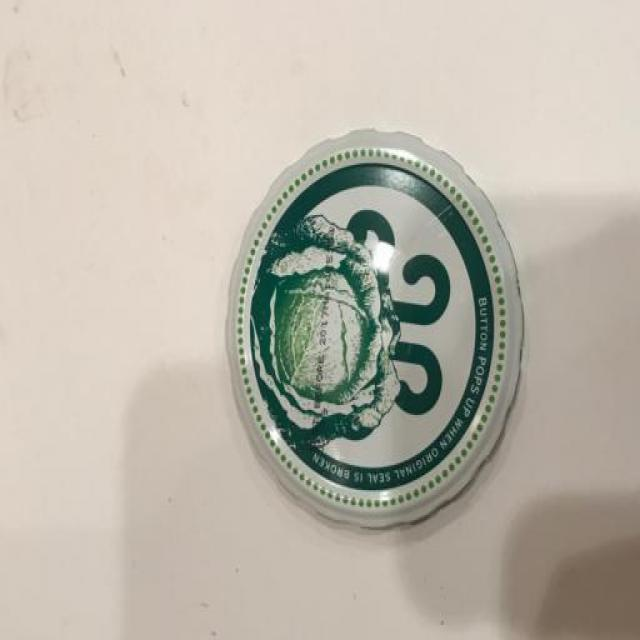metel: (241, 154, 513, 526)
